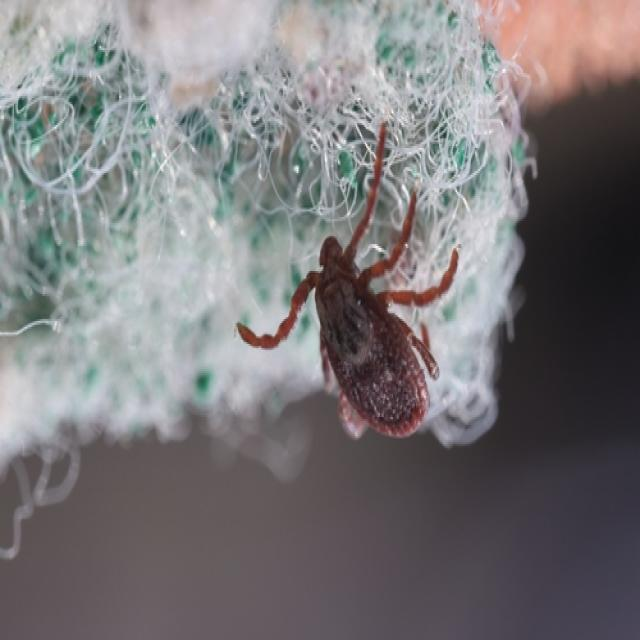Dermacentor Reticulatus-M: (237, 121, 460, 438)
